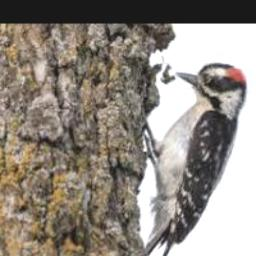Woodpecker: (143, 63, 248, 256)
